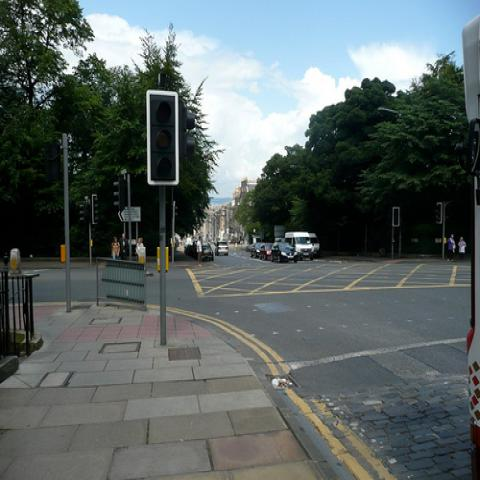car: (284, 232, 314, 260), (270, 241, 298, 263), (183, 238, 199, 261), (201, 243, 214, 262), (259, 244, 274, 260), (215, 241, 228, 256), (250, 242, 261, 258), (244, 243, 253, 254)
